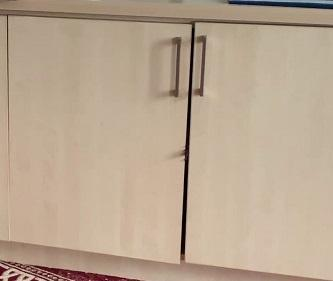cabinet_door: (0, 19, 185, 260), (187, 23, 330, 275)
handle: (169, 35, 186, 101), (194, 34, 208, 99)
